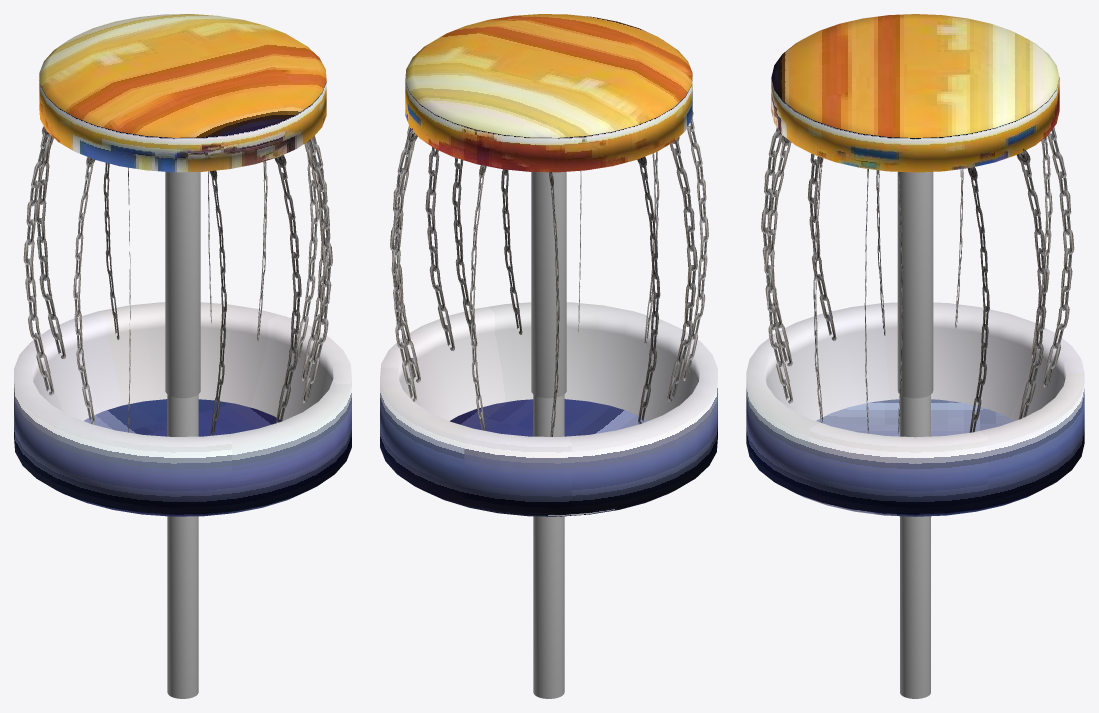
File: basket2.glb
The picture shows the model from 3 angles, left to right: view 1: azimuth 30°, elevation 25°; view 2: azimuth 150°, elevation 25°; view 3: azimuth 270°, elevation 25°; orthographic projection.
Parts seen in each view (by area): view 1: Cylinder.004, Cylinder.002, Cylinder, Cylinder.001, Chainlinker.002, Chainlinker.007, Chainlinker.006, Chainlinker.009, Chainlinker.001, Chainlinker.011, Chainlinker.008, Chainlinker.003 (+2 smaller); view 2: Cylinder.004, Cylinder.002, Cylinder, Cylinder.001, Chainlinker.009, Chainlinker.005, Chainlinker.010, Chainlinker.002, Chainlinker.008, Chainlinker.004, Chainlinker, Chainlinker.003 (+3 smaller); view 3: Cylinder.004, Cylinder.002, Cylinder, Cylinder.001, Chainlinker.005, Chainlinker, Chainlinker.006, Chainlinker.004, Chainlinker.011, Chainlinker.010, Chainlinker.001, Chainlinker.007 (+1 smaller).
Boxes of the visible parts, <box> form: Cylinder.004: <box>14,302,351,516</box>; Cylinder.002: <box>39,14,326,172</box>; Cylinder: <box>165,171,200,398</box>; Cylinder.001: <box>167,394,198,698</box>; Chainlinker.002: <box>23,126,53,395</box>; Chainlinker.007: <box>302,136,332,403</box>; Chainlinker.006: <box>274,155,301,422</box>; Chainlinker.009: <box>73,157,95,424</box>; Chainlinker.001: <box>36,136,65,358</box>; Chainlinker.011: <box>210,170,226,435</box>; Chainlinker.008: <box>296,144,318,362</box>; Chainlinker.003: <box>301,136,330,380</box>; Cylinder.004: <box>380,302,717,516</box>; Cylinder.002: <box>405,14,692,172</box>; Cylinder: <box>531,171,566,398</box>; Cylinder.001: <box>533,394,564,698</box>; Chainlinker.009: <box>667,137,697,401</box>; Chainlinker.005: <box>391,128,417,401</box>; Chainlinker.010: <box>683,110,708,380</box>; Chainlinker.002: <box>637,156,660,424</box>; Chainlinker.008: <box>425,147,454,351</box>; Chainlinker.004: <box>390,126,420,382</box>; Chainlinker: <box>469,165,486,430</box>; Chainlinker.003: <box>452,158,477,346</box>; Cylinder.004: <box>746,302,1084,516</box>; Cylinder.002: <box>771,14,1059,172</box>; Cylinder: <box>897,172,933,398</box>; Cylinder.001: <box>900,394,930,698</box>; Chainlinker.005: <box>1016,149,1047,419</box>; Chainlinker: <box>1042,127,1074,387</box>; Chainlinker.006: <box>764,135,792,403</box>; Chainlinker.004: <box>968,167,989,432</box>; Chainlinker.011: <box>761,127,792,366</box>; Chainlinker.010: <box>807,153,836,340</box>; Chainlinker.001: <box>1031,136,1052,357</box>; Chainlinker.007: <box>813,157,823,423</box>.
Bounding box in the file's own units: 0.3921 × 0.8108 × 0.3921.
3 materials, 2 textured.
